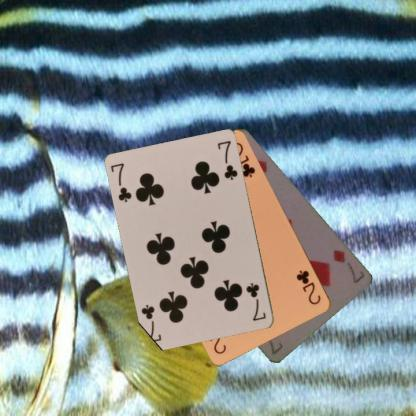2c: (294, 267, 323, 306)
7c: (108, 161, 134, 204), (244, 280, 267, 323)
7d: (331, 247, 366, 285)
